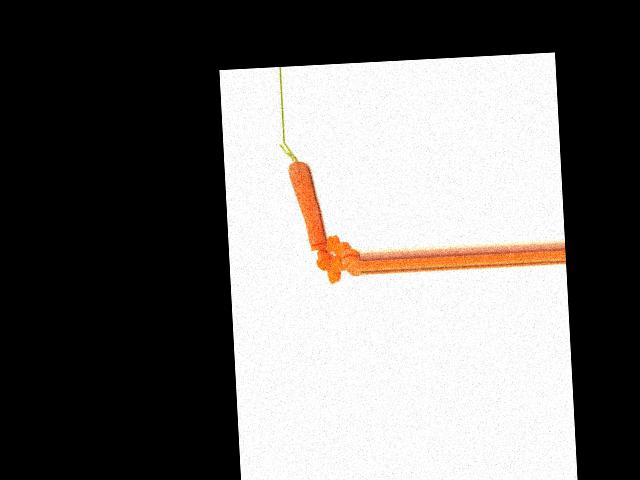carrot: (287, 155, 333, 255)
